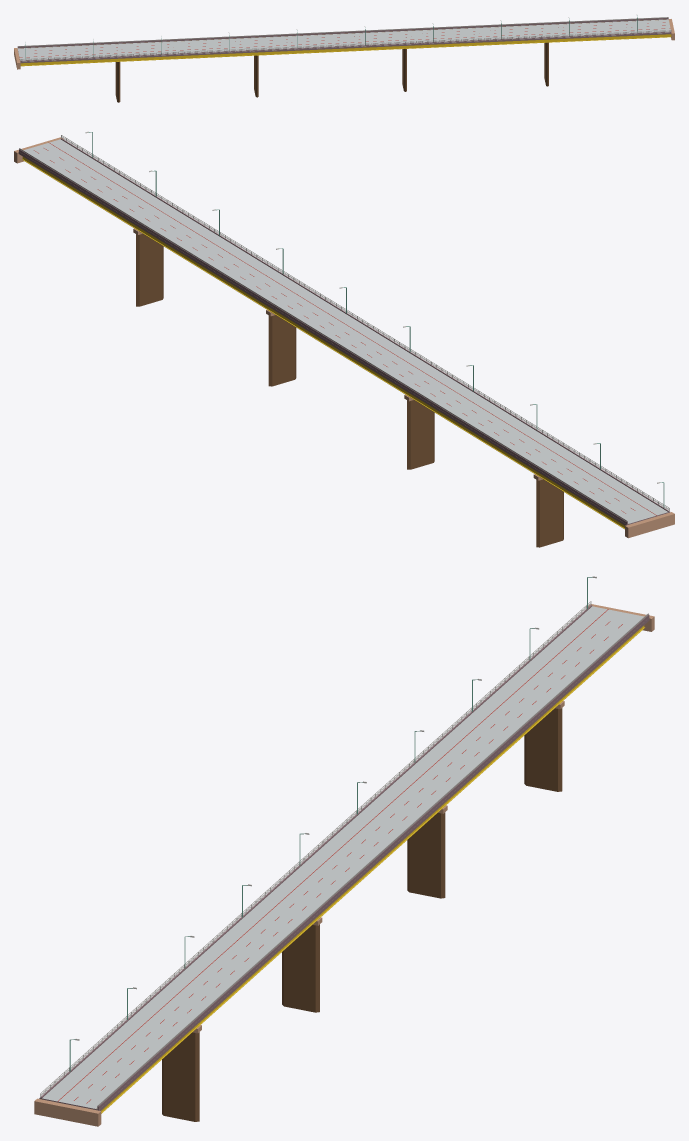
File: br_r21_clover_bar.gltf
3 renders of one model, top to bottom at view 1: azimuth 30°, elevation 25°; view 2: azimuth 150°, elevation 25°; view 3: azimuth 270°, elevation 25°, orthographic. The views are drawn at different scales.
Parts seen in each view (by area): view 1: br_r21_clover_bar; view 2: br_r21_clover_bar; view 3: br_r21_clover_bar.
Part boxes in pixels (left/top/right/bottom): br_r21_clover_bar: left=14, top=14, right=674, bottom=102; br_r21_clover_bar: left=14, top=131, right=674, bottom=547; br_r21_clover_bar: left=34, top=576, right=654, bottom=1126.
Bounding box in the file's own units: 324 × 41.24 × 164.
